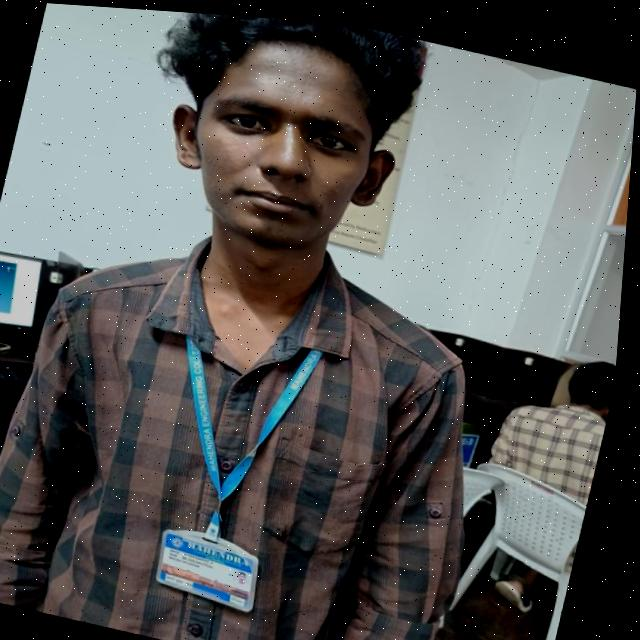id_card: (126, 309, 332, 622)
